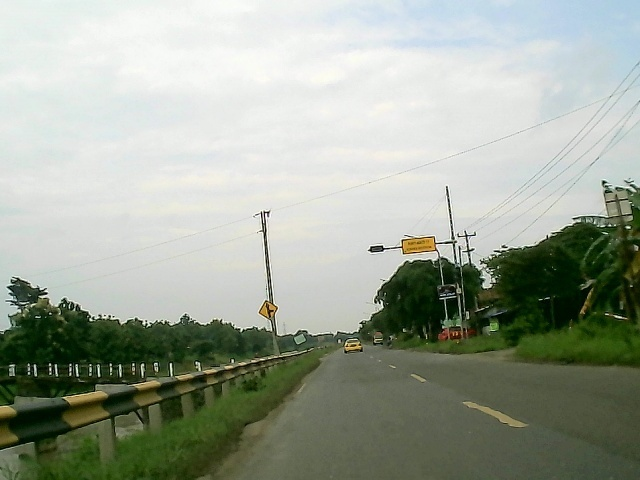Simpang kanan dengan prioritas: (257, 297, 279, 323)
